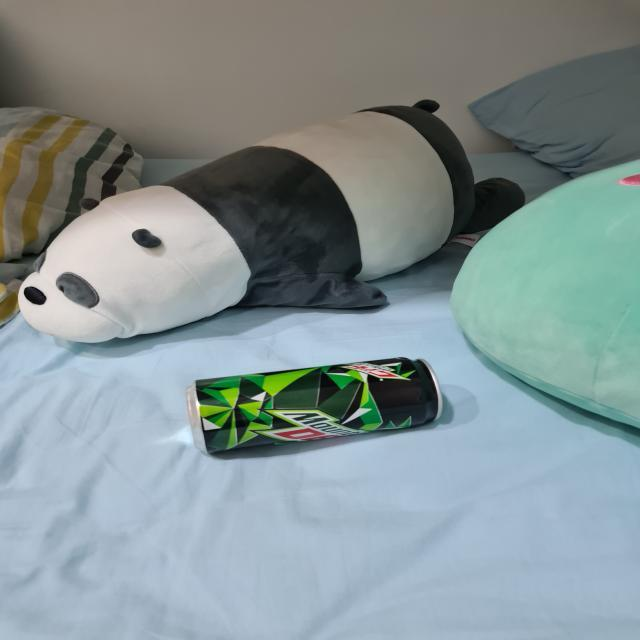can: (190, 356, 444, 461)
